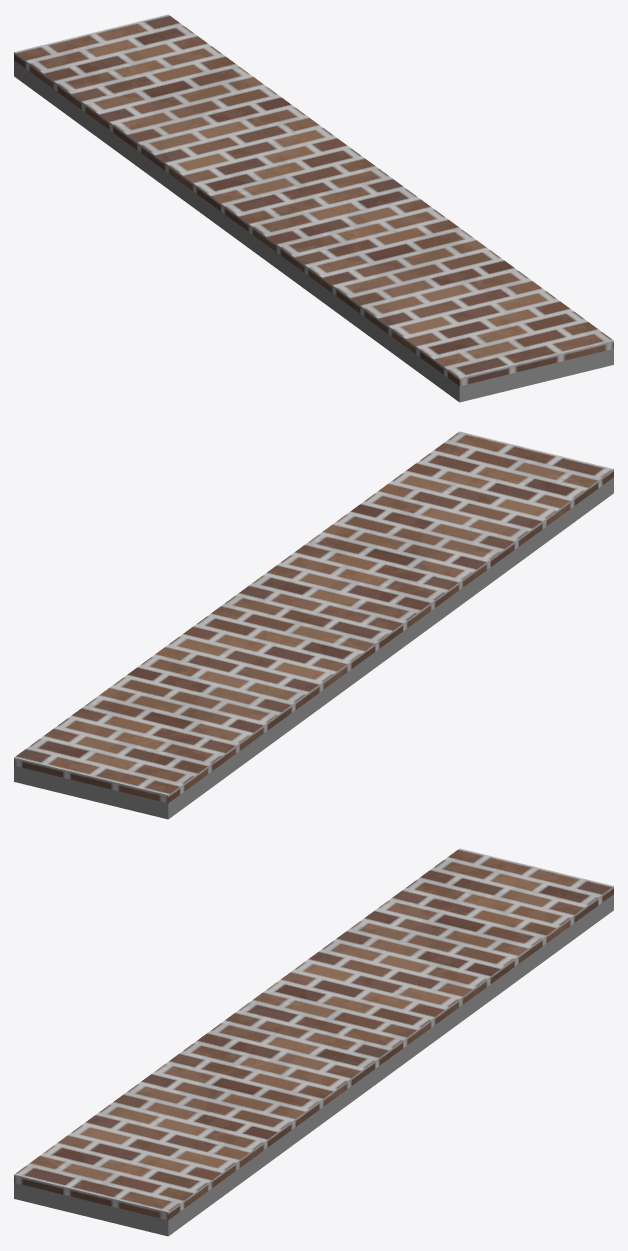
The model's file is Normal_Floor_002.FBX.
3 renders of one model, top to bottom at view 1: azimuth 30°, elevation 25°; view 2: azimuth 150°, elevation 25°; view 3: azimuth 330°, elevation 25°, orthographic.
Parts seen in each view (by area): view 1: Normal_Floor_002; view 2: Normal_Floor_002; view 3: Normal_Floor_002.
Boxes of the visible parts, left/top/right/bottom form: Normal_Floor_002: left=14, top=14, right=613, bottom=402; Normal_Floor_002: left=14, top=431, right=613, bottom=819; Normal_Floor_002: left=14, top=848, right=613, bottom=1236.
Bounding box in the file's own units: 100 × 500 × 15.
